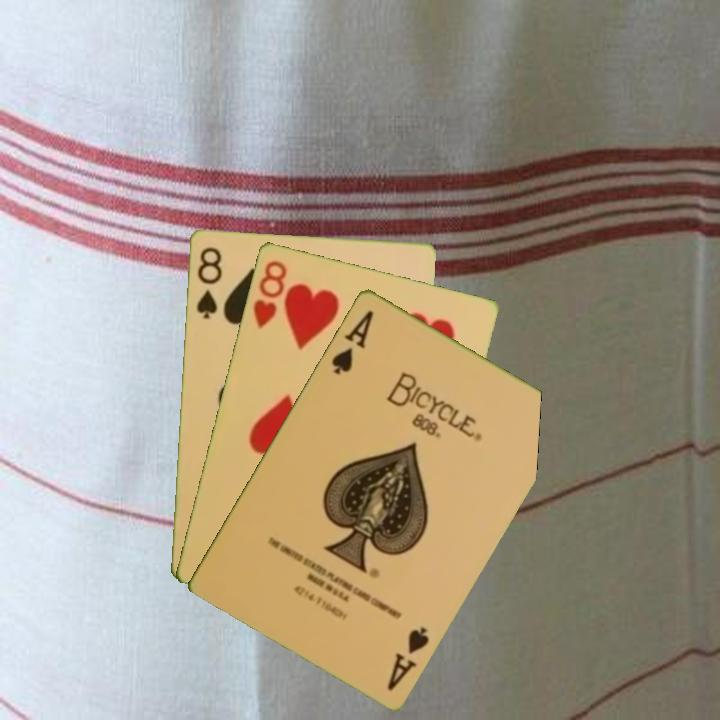8h: (249, 256, 290, 332)
8s: (192, 243, 225, 322)
As: (327, 306, 377, 378), (383, 622, 432, 693)
